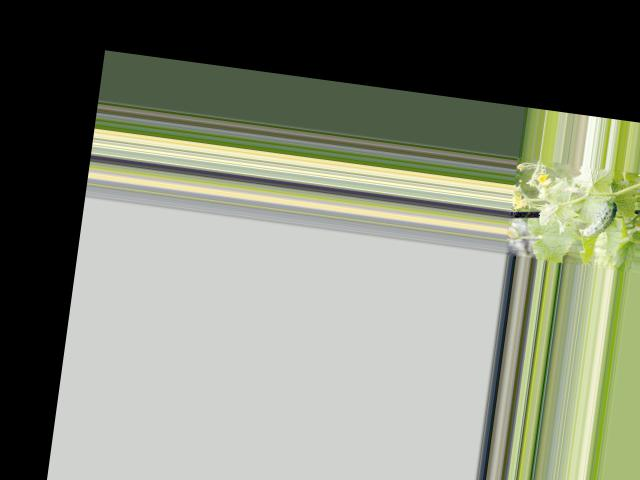cucumber: (577, 195, 617, 240)
